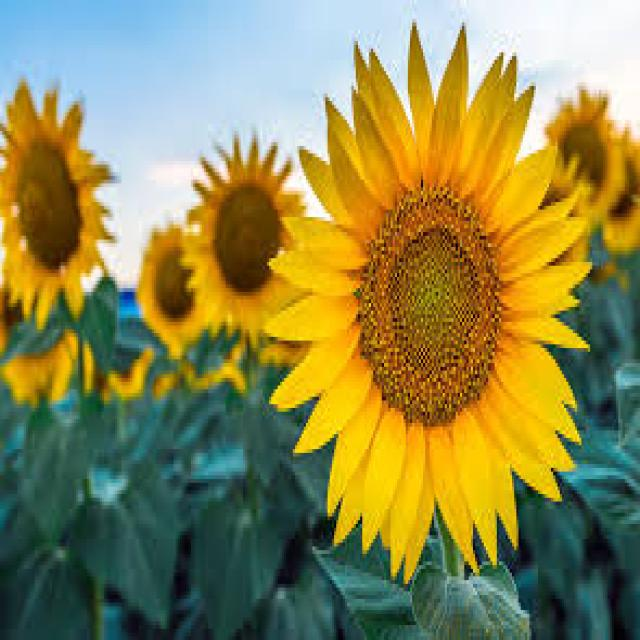sunflower: (268, 9, 600, 578), (0, 67, 119, 340), (184, 120, 314, 363), (544, 81, 624, 230), (135, 221, 211, 350)
